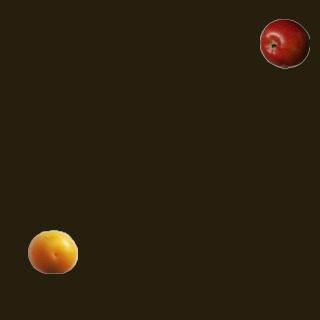Apple Braeburn: (259, 18, 309, 68)
Cherry Wax Yellow: (27, 226, 77, 276)
